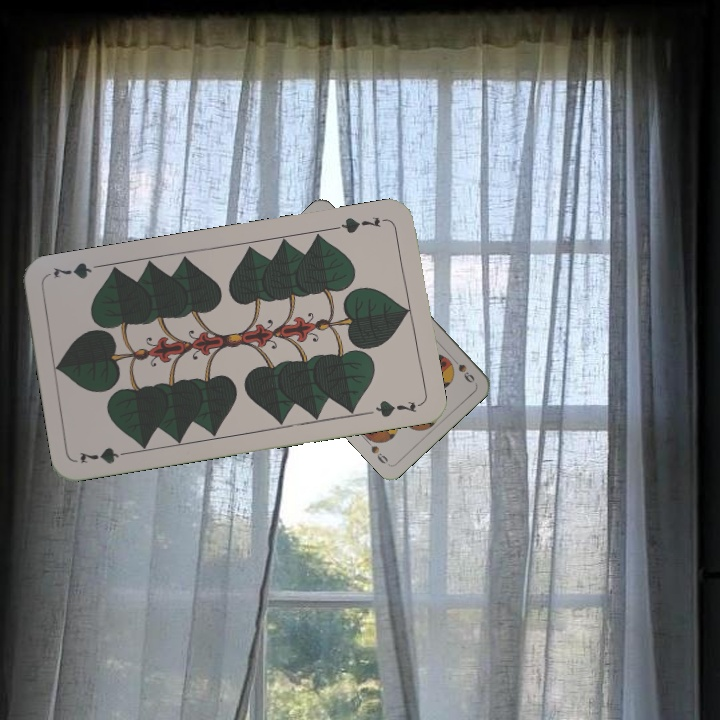G7: (76, 443, 135, 467), (331, 212, 383, 236)
S9: (447, 352, 477, 386)
